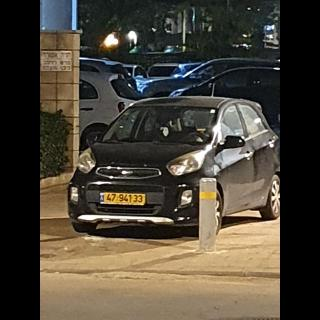LicensePlate: (105, 193, 146, 203)
